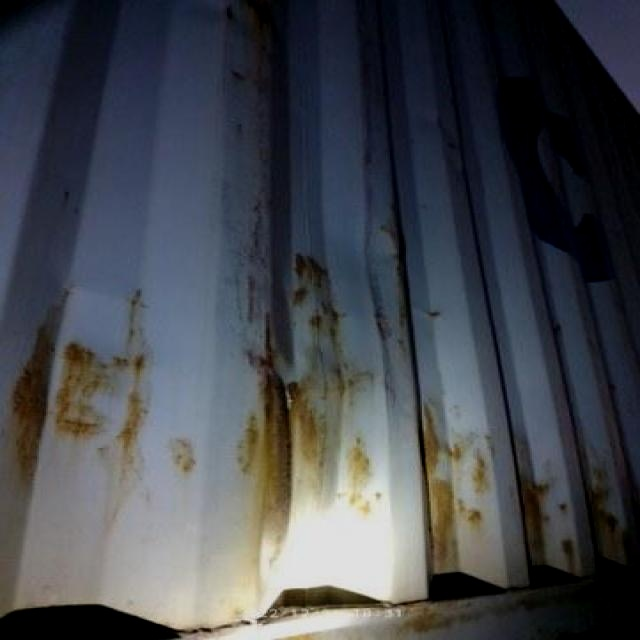Rusty: (21, 329, 145, 465), (240, 347, 338, 519)
